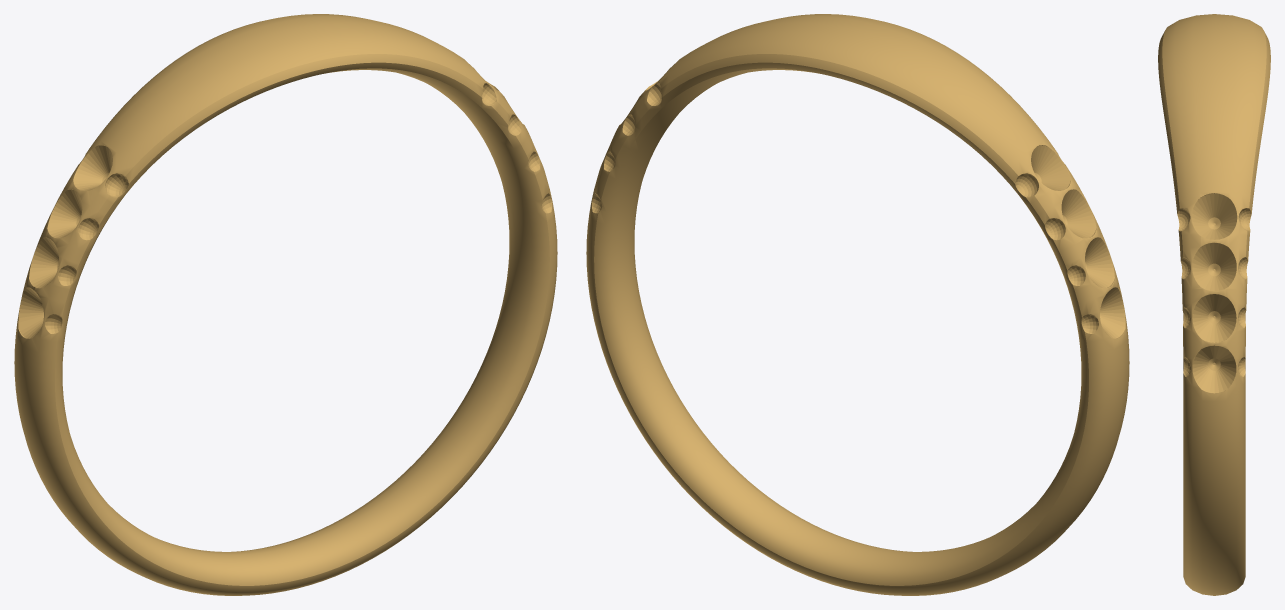
The model's file is reverse-tapered-scalloped-u-cut-head.glb.
3 views of the same model, side by side, from view 1: azimuth 30°, elevation 25°; view 2: azimuth 150°, elevation 25°; view 3: azimuth 270°, elevation 25° (orthographic). The views are drawn at different scales.
Parts seen in each view (by area): view 1: Band; view 2: Band; view 3: Band.
Part boxes in pixels (x1,y1,x2,y2): Band: [14, 14, 557, 595]; Band: [586, 14, 1129, 595]; Band: [1158, 14, 1270, 595].
Bounding box in the file's own units: 19.6 × 19.6 × 3.8.
